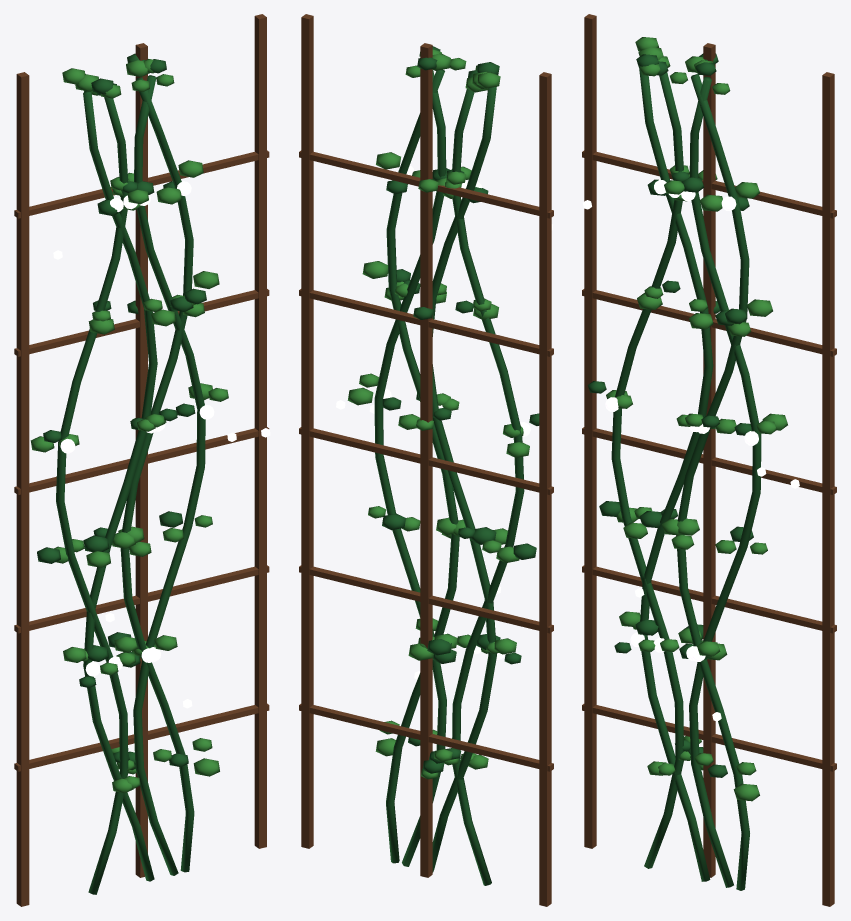
The model's file is elven-vines.glb.
The picture shows the model from 3 angles, left to right: view 1: azimuth 30°, elevation 25°; view 2: azimuth 150°, elevation 25°; view 3: azimuth 330°, elevation 25°; orthographic projection.
Parts seen in each view (by area): view 1: Model Mesh; view 2: Model Mesh; view 3: Model Mesh.
Part boxes in pixels (x1,y1,x2,y2): Model Mesh: (14, 14, 270, 906); Model Mesh: (299, 14, 553, 906); Model Mesh: (582, 14, 836, 906).
Size of the model in its own units: 1.9 by 6.01 by 0.4144.
